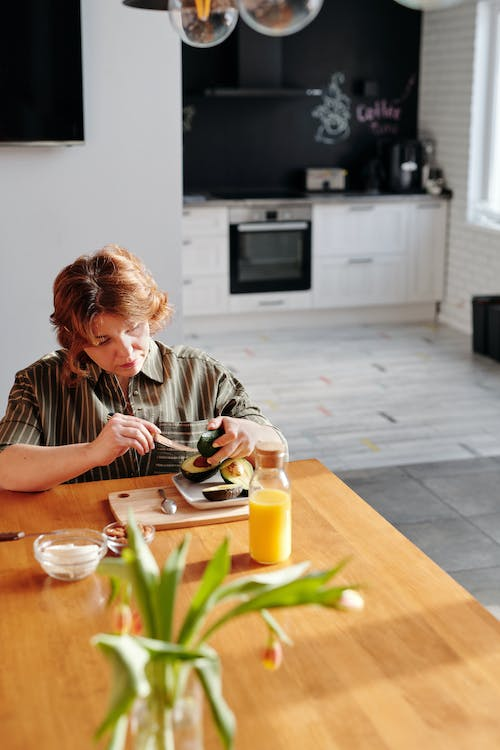knife: (105, 411, 199, 454)
